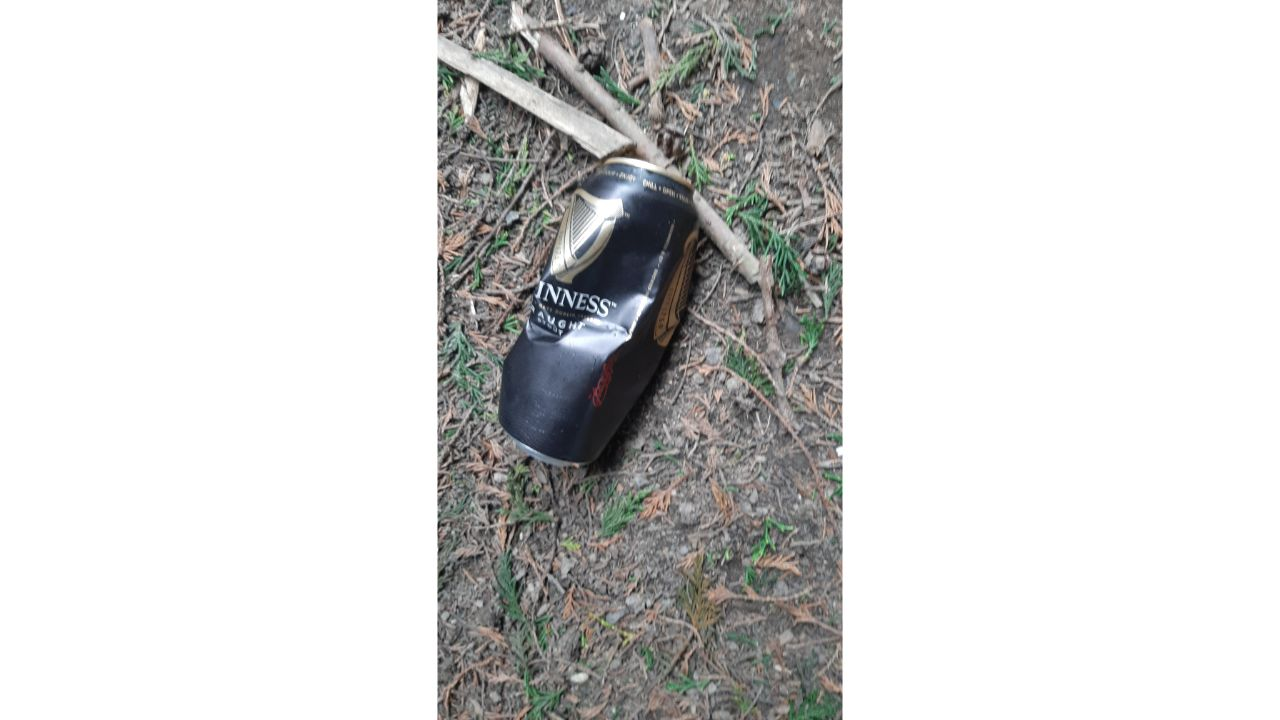Can: (498, 156, 699, 470)
